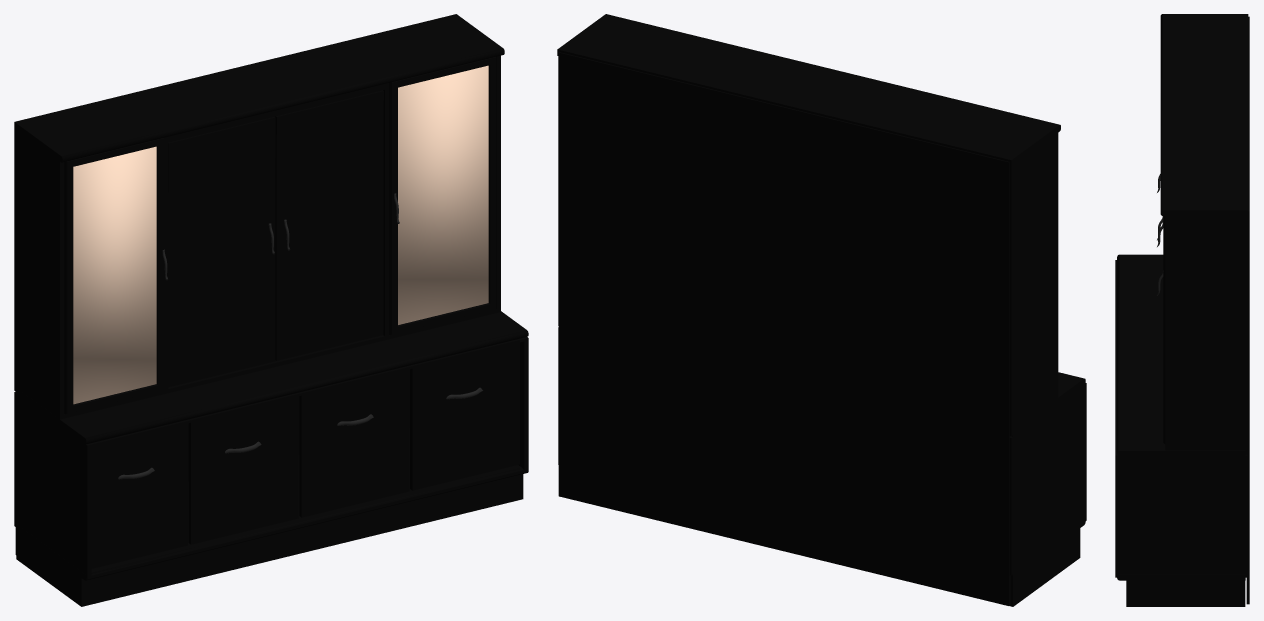
File: cabinet2.glb
The picture shows the model from 3 angles, left to right: view 1: azimuth 30°, elevation 25°; view 2: azimuth 150°, elevation 25°; view 3: azimuth 270°, elevation 25°; orthographic projection. The views are drawn at different scales.
Visible parts, largest first — view 1: cabinet2; view 2: cabinet2; view 3: cabinet2.
Boxes of the visible parts, x1=… form: cabinet2: x1=14, y1=14, x2=528, y2=606; cabinet2: x1=557, y1=14, x2=1086, y2=606; cabinet2: x1=1115, y1=14, x2=1249, y2=606.
Bounding box in the file's own units: 223 × 211 × 64.5.
